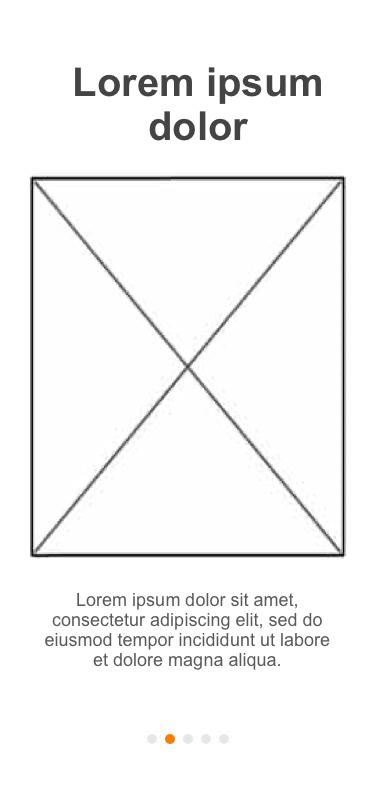Image: (30, 174, 347, 558)
PageIndicator: (147, 733, 231, 745)
Text: (45, 592, 330, 671), (75, 67, 323, 142)
